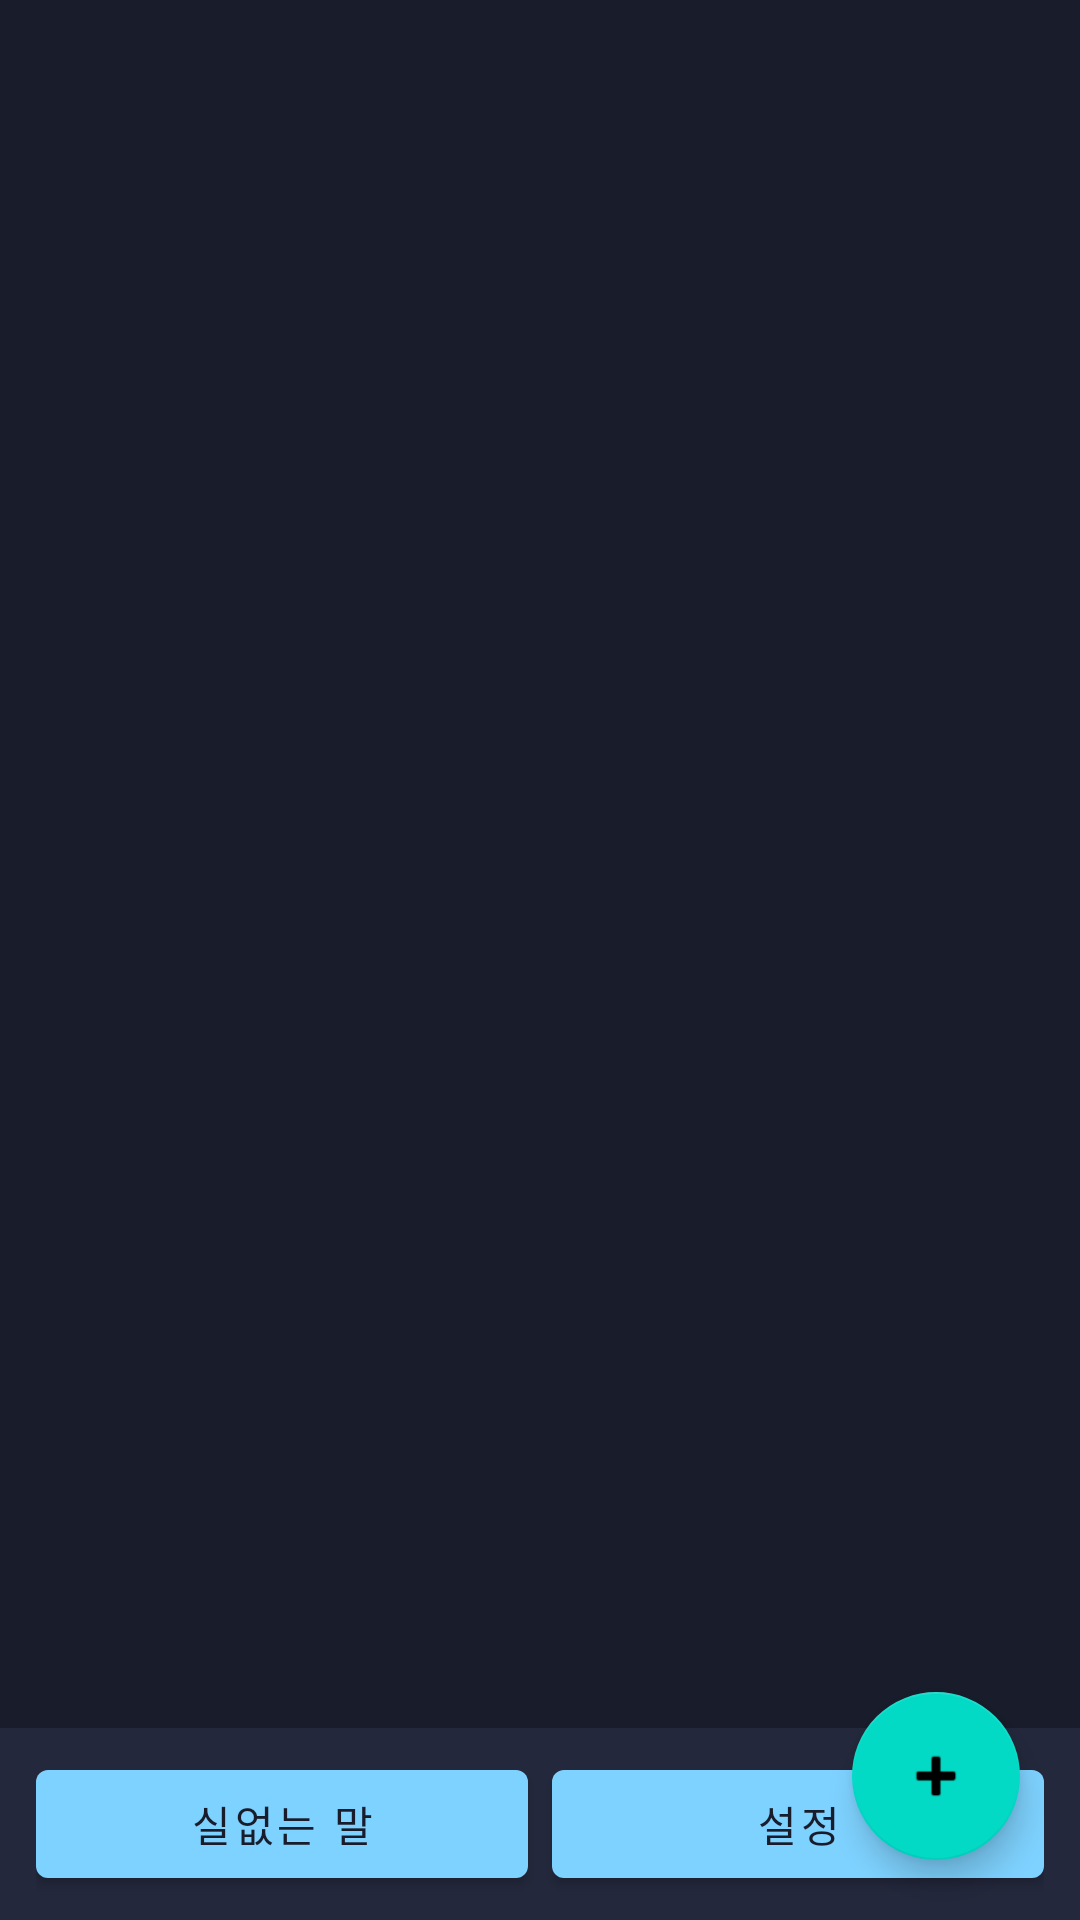

Point at icon controls on the screen. Image size 1080px×1920px, points as [x,y].
폴더 추가: [936,1776]
